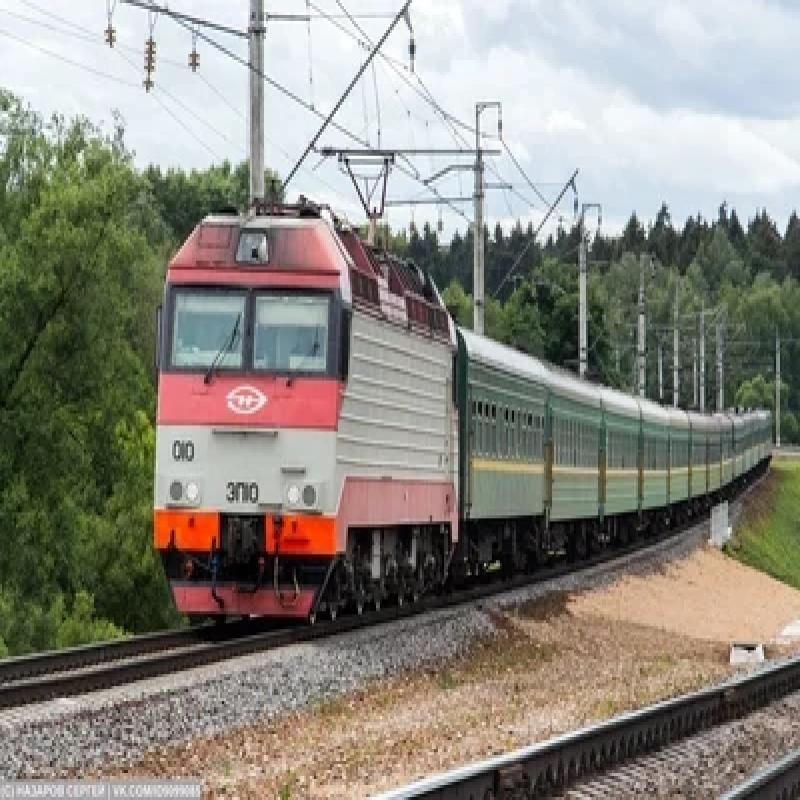train: (131, 169, 779, 636)
